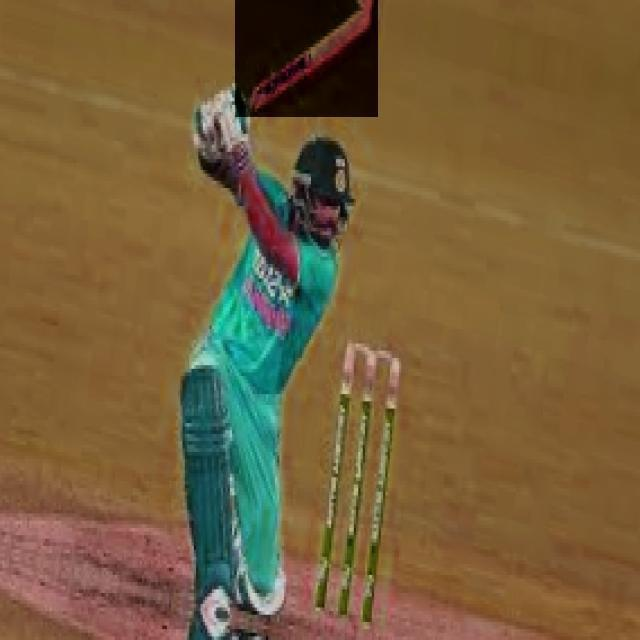bat: (238, 0, 382, 113)
toe: (366, 0, 380, 26)
